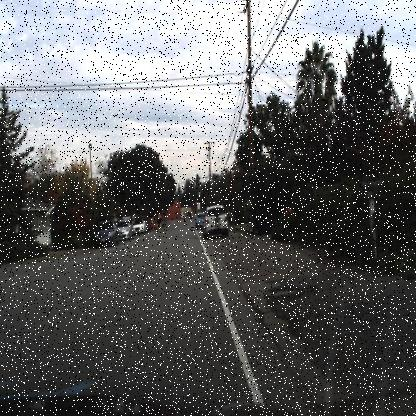car: (202, 203, 229, 236), (91, 219, 118, 250), (118, 221, 132, 240), (132, 218, 144, 235), (193, 212, 204, 230)
